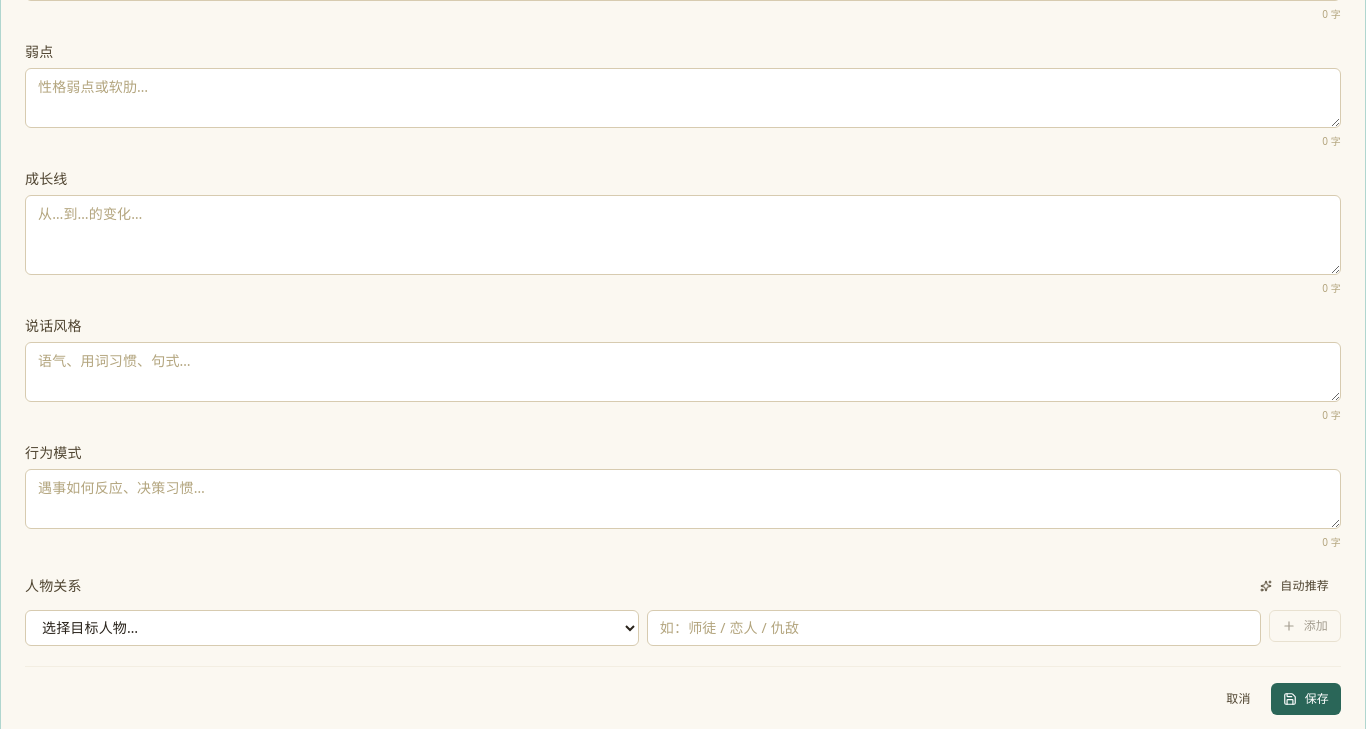
Test case: CharacterForm › 添加人物关系：选择目标与描述后出现在列表
(page scrolled)
Select "王小二（配角）" in the dropdown: (332, 628) [25,610,639,646]
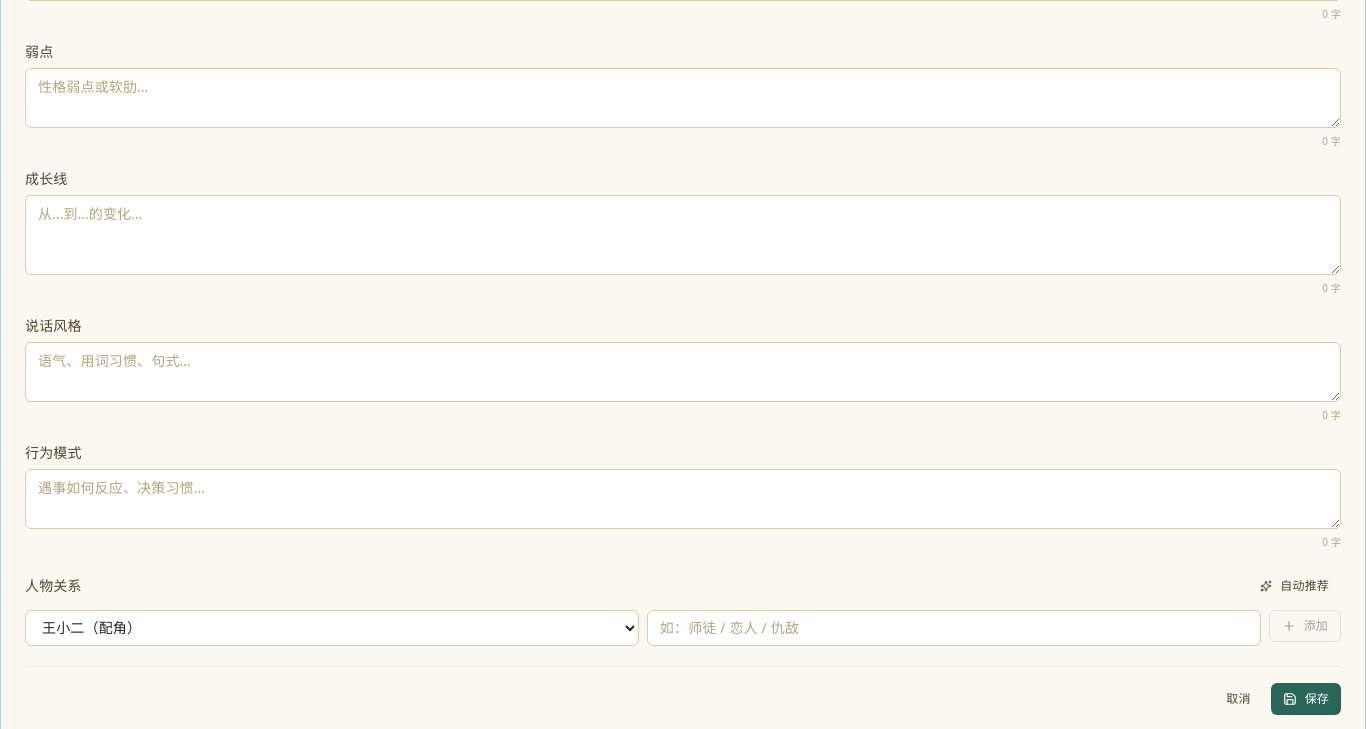
In the field with placeholder "如：师徒 / 恋人 / 仇敌": (954, 628) [647,610,1261,646], type "师徒"
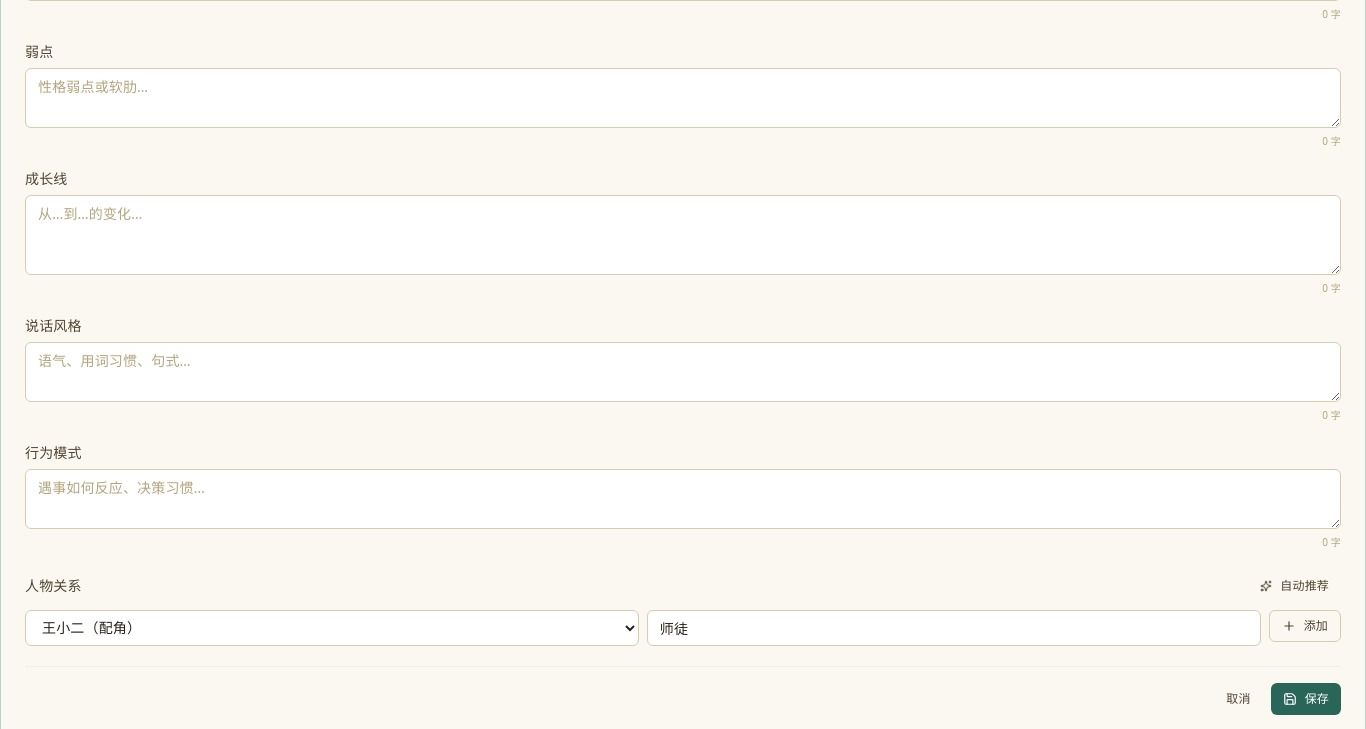
Click the button "添加": (1305, 626) [1269,610,1341,642]
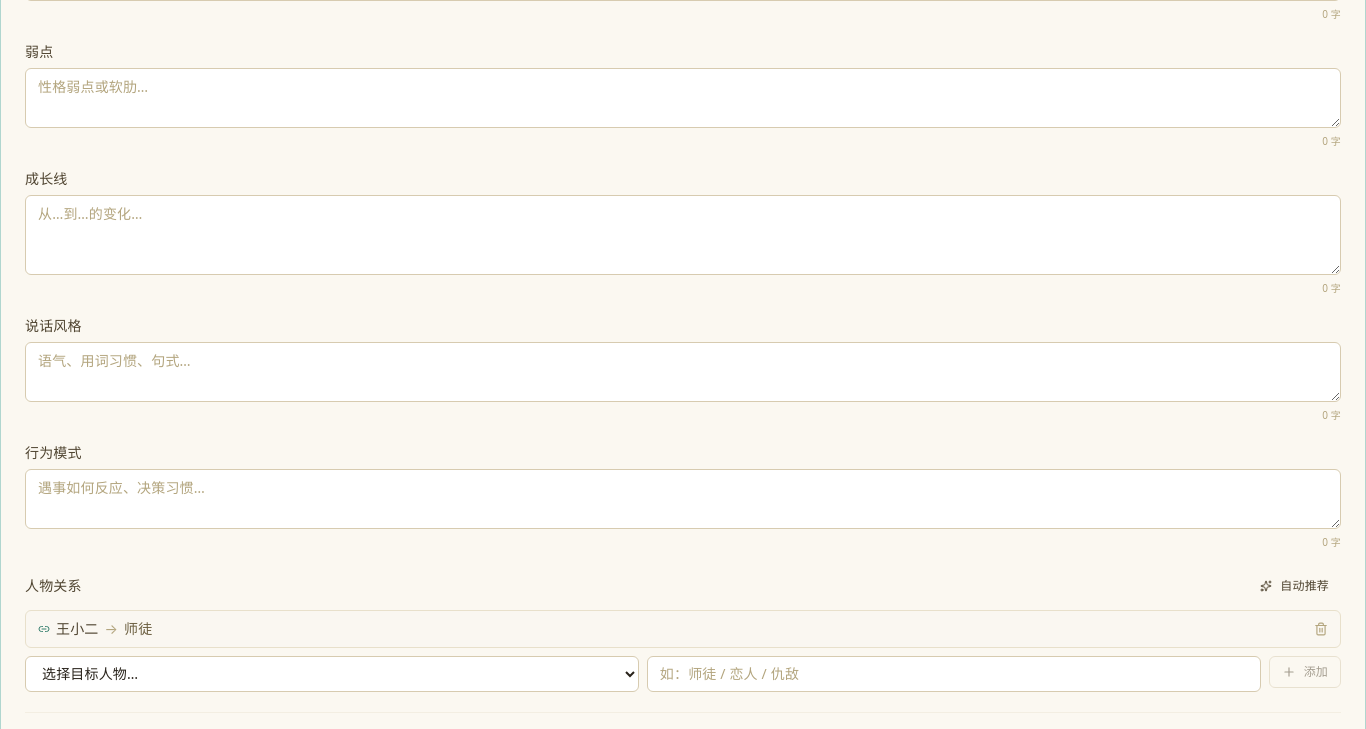
Expected: the text "师徒" is shown, [124,618,152,638]
Expected: the text "王小二" is shown, [56,618,98,638]
